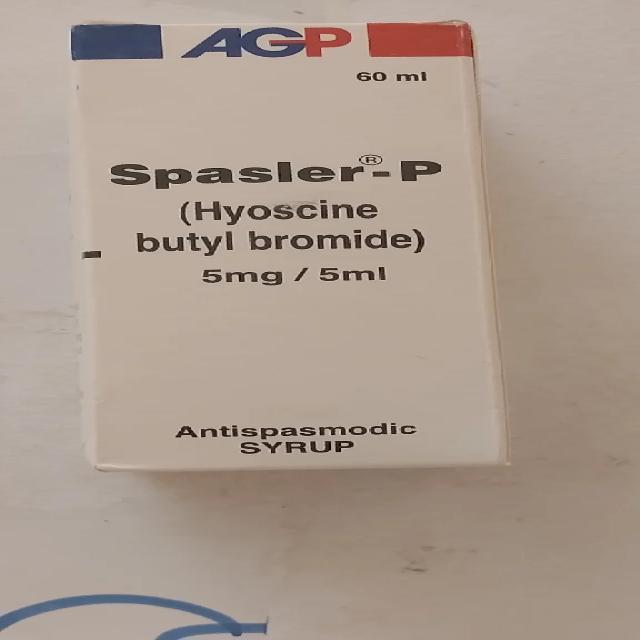drug-name: (108, 154, 444, 188)
